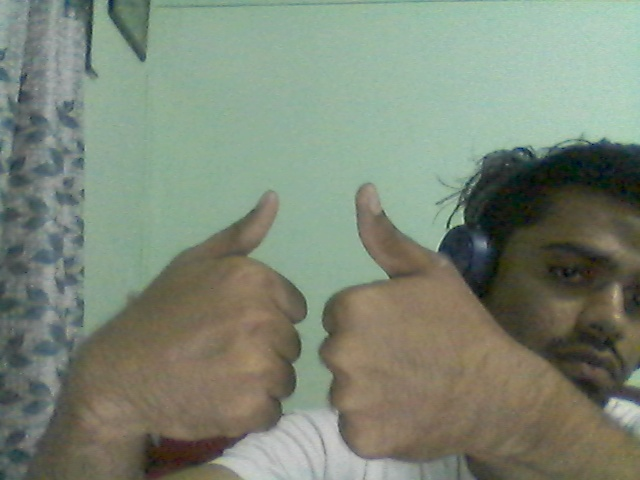Thank You: (57, 161, 541, 480)
